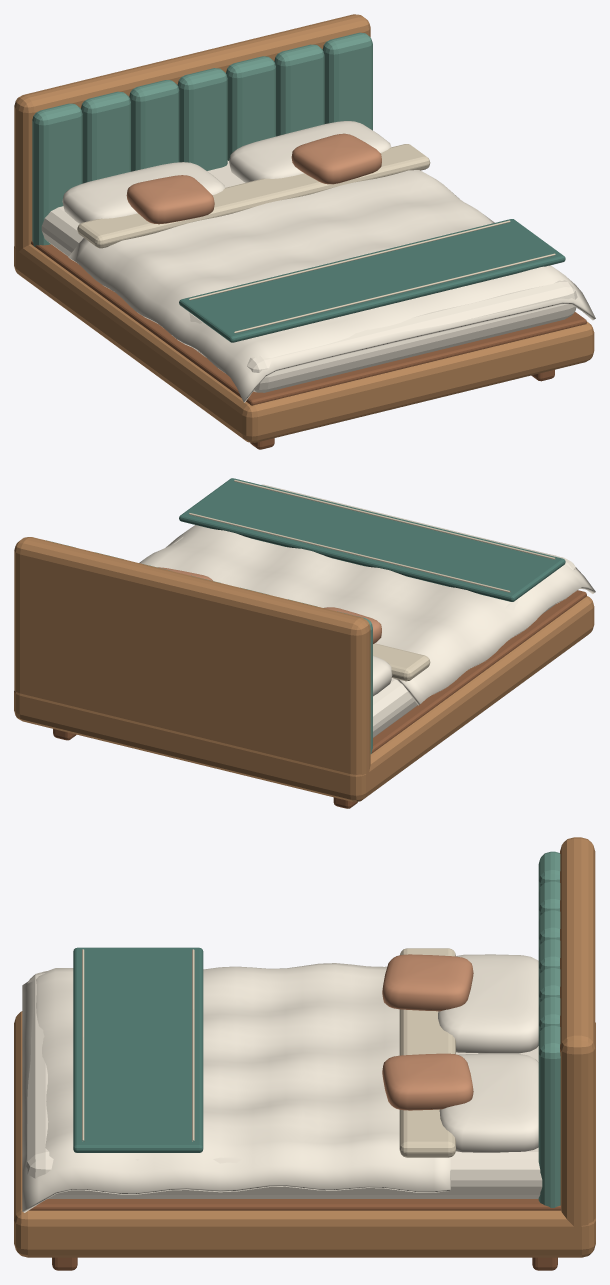
Rendered from boutique-bed.glb.
3 views of the same model, one above another, from view 1: azimuth 30°, elevation 25°; view 2: azimuth 150°, elevation 25°; view 3: azimuth 270°, elevation 25° (orthographic). The views are drawn at different scales.
Visible parts, largest first — view 1: boutique-bed / Warm linen, boutique-bed / Oak, boutique-bed / Sea glass upholstery, boutique-bed / Sea glass runner, boutique-bed / Linen shadow, boutique-bed / Terracotta cushion, boutique-bed / Oak endgrain; view 2: boutique-bed / Oak, boutique-bed / Warm linen, boutique-bed / Sea glass runner, boutique-bed / Oak endgrain, boutique-bed / Linen shadow, boutique-bed / Sea glass upholstery, boutique-bed / Terracotta cushion; view 3: boutique-bed / Warm linen, boutique-bed / Oak, boutique-bed / Sea glass runner, boutique-bed / Terracotta cushion, boutique-bed / Sea glass upholstery, boutique-bed / Oak endgrain, boutique-bed / Linen shadow.
Part boxes in pixels (x1,y1,x2,y2): boutique-bed / Warm linen: [41, 121, 595, 402]; boutique-bed / Oak: [14, 14, 594, 442]; boutique-bed / Sea glass upholstery: [32, 32, 372, 246]; boutique-bed / Sea glass runner: [179, 219, 565, 342]; boutique-bed / Linen shadow: [77, 144, 555, 333]; boutique-bed / Terracotta cushion: [126, 133, 381, 224]; boutique-bed / Oak endgrain: [31, 241, 586, 449]; boutique-bed / Oak: [14, 537, 594, 801]; boutique-bed / Warm linen: [139, 484, 595, 737]; boutique-bed / Sea glass runner: [179, 478, 565, 601]; boutique-bed / Oak endgrain: [53, 590, 586, 808]; boutique-bed / Linen shadow: [189, 480, 555, 681]; boutique-bed / Sea glass upholstery: [46, 540, 372, 753]; boutique-bed / Terracotta cushion: [158, 567, 381, 643]; boutique-bed / Warm linen: [22, 954, 542, 1212]; boutique-bed / Oak: [14, 837, 595, 1257]; boutique-bed / Sea glass runner: [73, 947, 203, 1152]; boutique-bed / Terracotta cushion: [382, 954, 473, 1110]; boutique-bed / Sea glass upholstery: [538, 851, 560, 1207]; boutique-bed / Oak endgrain: [29, 1199, 560, 1270]; boutique-bed / Linen shadow: [82, 948, 455, 1157].
Bounding box in the file's own units: 3.52 × 1.93 × 4.12.
